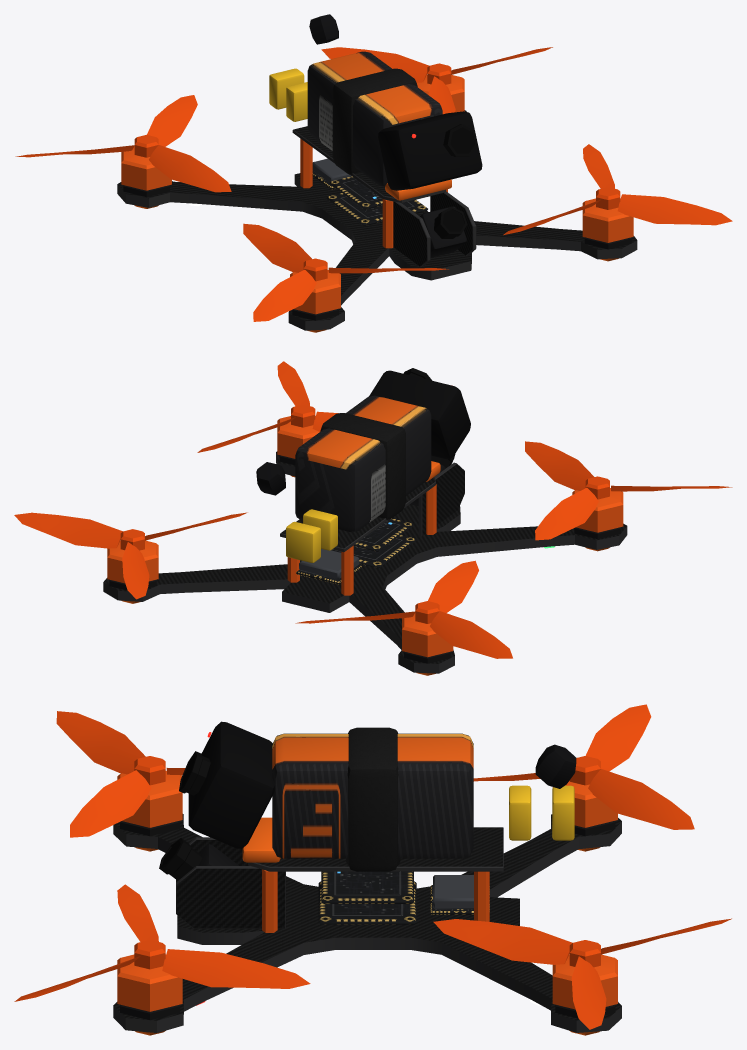
The model's file is raptor_race_a_lod2.glb.
3 views of the same model, one above another, from view 1: azimuth 30°, elevation 25°; view 2: azimuth 150°, elevation 25°; view 3: azimuth 270°, elevation 25° (orthographic). The views are drawn at different scales.
Parts seen in each view (by area): view 1: body, battery, action_cam, prop_fr, prop_rr, prop_fl, prop_rl, camera_fpv, camera_lens; view 2: body, battery, prop_fr, prop_rr, prop_rl, action_cam, prop_fl; view 3: body, battery, action_cam, prop_rl, prop_fl, prop_rr, prop_fr, camera_lens.
Boxes of the visible parts, x1,y1,x2,y2 form: body: (117, 14, 637, 332); battery: (286, 51, 442, 186); action_cam: (378, 111, 482, 190); prop_fr: (243, 223, 448, 321); prop_rr: (15, 95, 231, 192); prop_fl: (503, 144, 732, 235); prop_rl: (321, 47, 552, 114); camera_fpv: (420, 206, 466, 257); camera_lens: (434, 206, 467, 238); body: (103, 413, 627, 675); battery: (295, 395, 431, 550); prop_fr: (525, 441, 732, 540); prop_rr: (295, 560, 512, 658); prop_rl: (14, 512, 247, 599); action_cam: (369, 368, 470, 459); prop_fl: (197, 361, 338, 452); body: (113, 727, 621, 1035); battery: (272, 733, 531, 858); action_cam: (179, 721, 274, 848); prop_rl: (433, 918, 731, 1029); prop_fl: (14, 884, 310, 1001); prop_rr: (473, 704, 694, 829); prop_fr: (56, 711, 185, 837); camera_lens: (159, 838, 201, 880).
Size of the model in its own units: 0.2831 by 0.0819 by 0.2643.
Materials: 20 (4 with a texture image).
